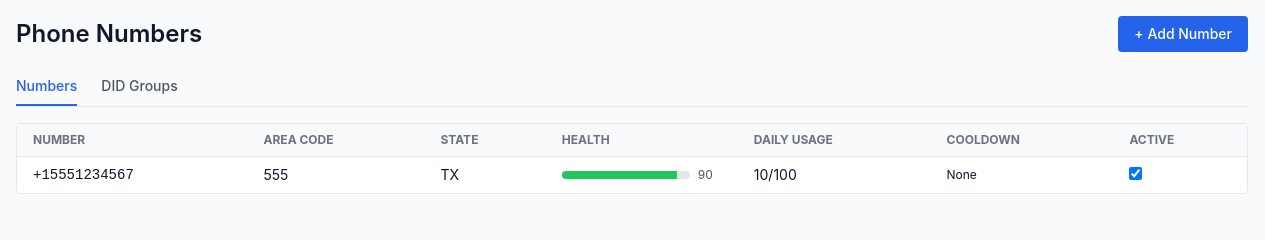
Test: PhoneNumbersClient › switches to DID Groups tab
Check: the text "+15551234567" is shown, box x1=17 y1=156 x2=248 y2=193
Click the tab "DID Groups" at (140, 87), box x1=101 y1=68 x2=178 y2=106
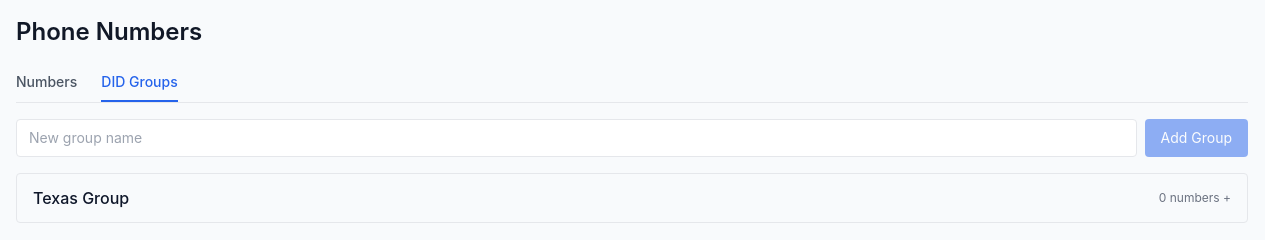
Check: the text "Texas Group" is shown, box x1=33 y1=186 x2=129 y2=210
Check: the button with test id "add-number-btn" is gone
